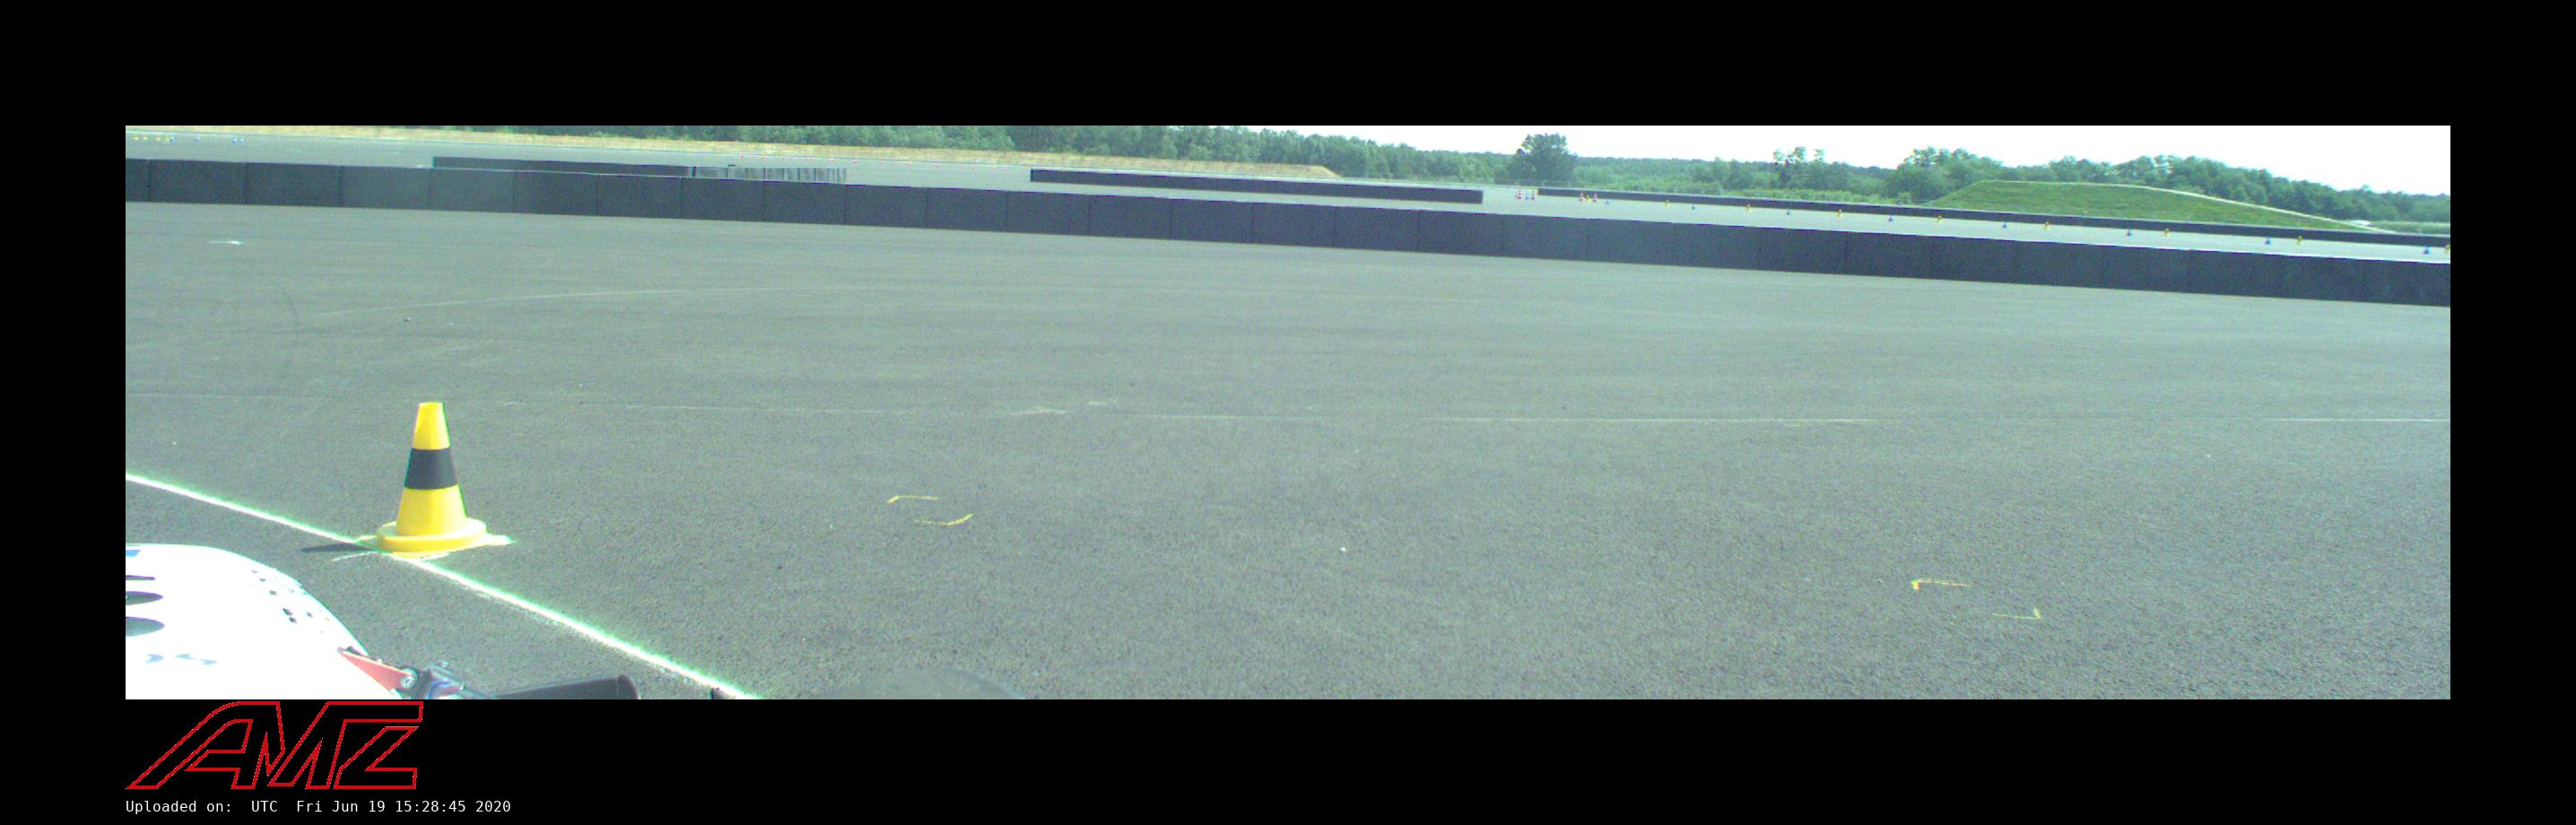blue_cone: (2423, 243, 2431, 253), (2266, 235, 2272, 245), (2126, 227, 2132, 237), (2001, 220, 2008, 228), (1888, 214, 1894, 222), (1784, 207, 1791, 215), (1690, 202, 1697, 210), (1605, 197, 1612, 205), (1525, 194, 1529, 199)
large_orange_cone: (1531, 191, 1536, 200), (1579, 192, 1584, 200), (1518, 189, 1521, 199), (1594, 192, 1597, 202)
yellow_cone: (360, 401, 503, 559), (2297, 235, 2305, 245), (1935, 214, 1944, 224), (2162, 228, 2170, 237), (2044, 220, 2050, 230), (2445, 243, 2451, 253), (1837, 209, 1843, 217), (1585, 196, 1592, 202), (1746, 204, 1751, 212), (1664, 199, 1669, 207)
